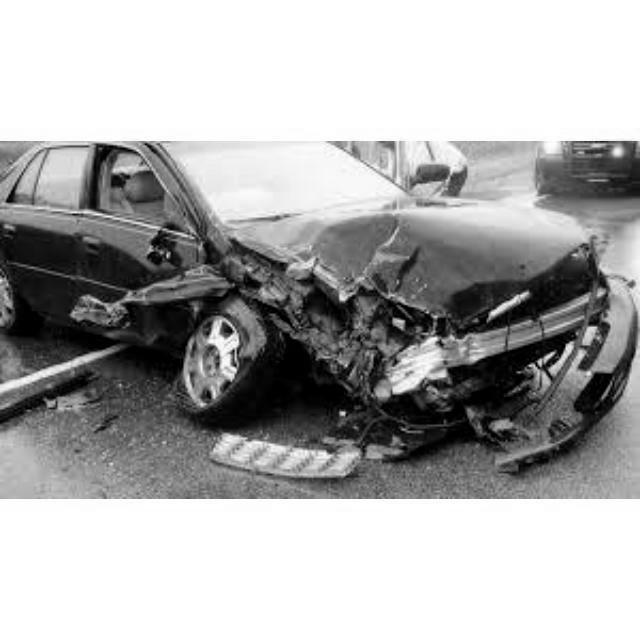bonnet-dent: (284, 205, 578, 301)
fender-dent: (181, 246, 281, 310)
front-bumper-dent: (485, 325, 638, 406)
